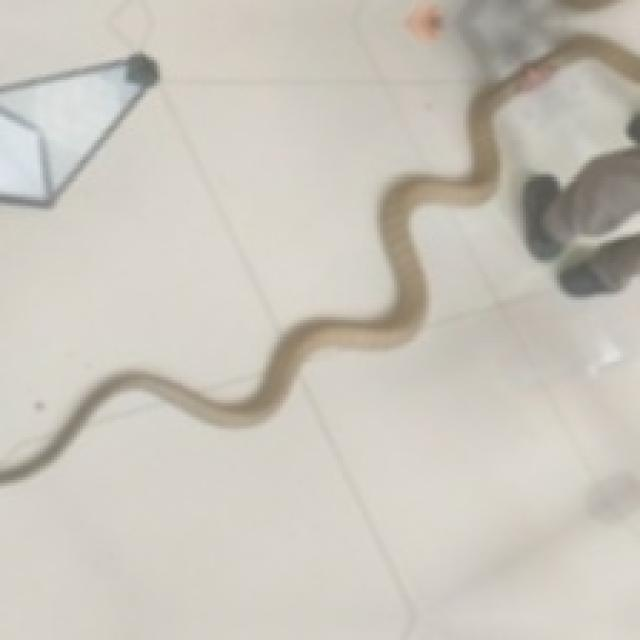king cobra: (0, 31, 637, 480)
